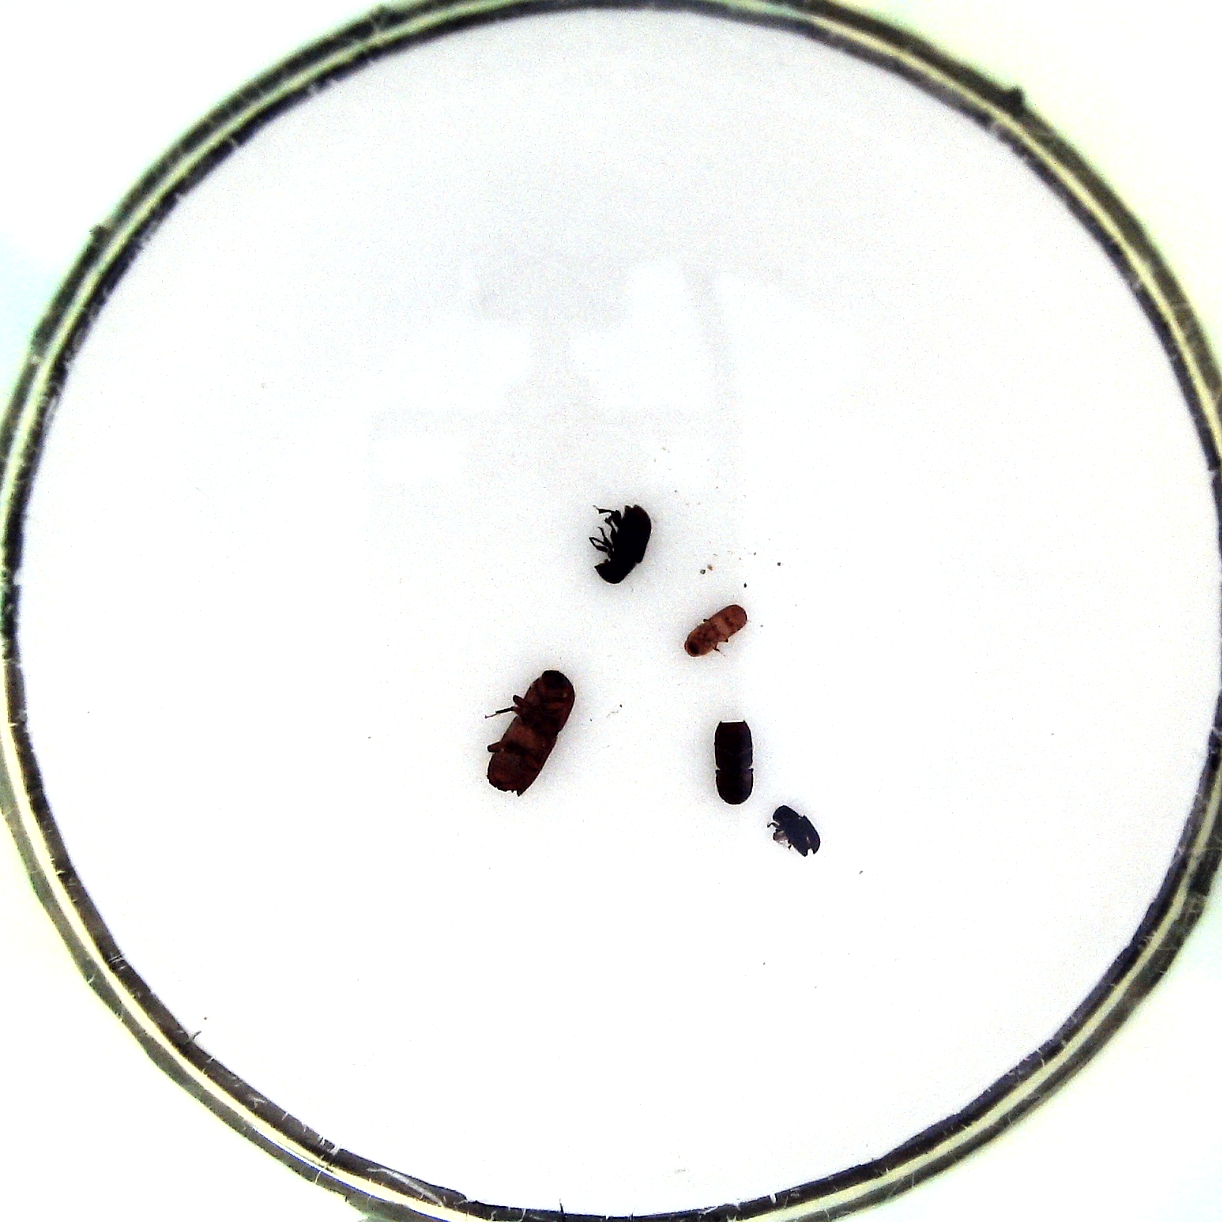Boerner: (479, 665, 577, 796)
Linnaeus: (709, 713, 756, 808)
acuminatus: (681, 598, 754, 665)
armandi: (582, 498, 654, 587)
coleoptera: (769, 801, 828, 862)
